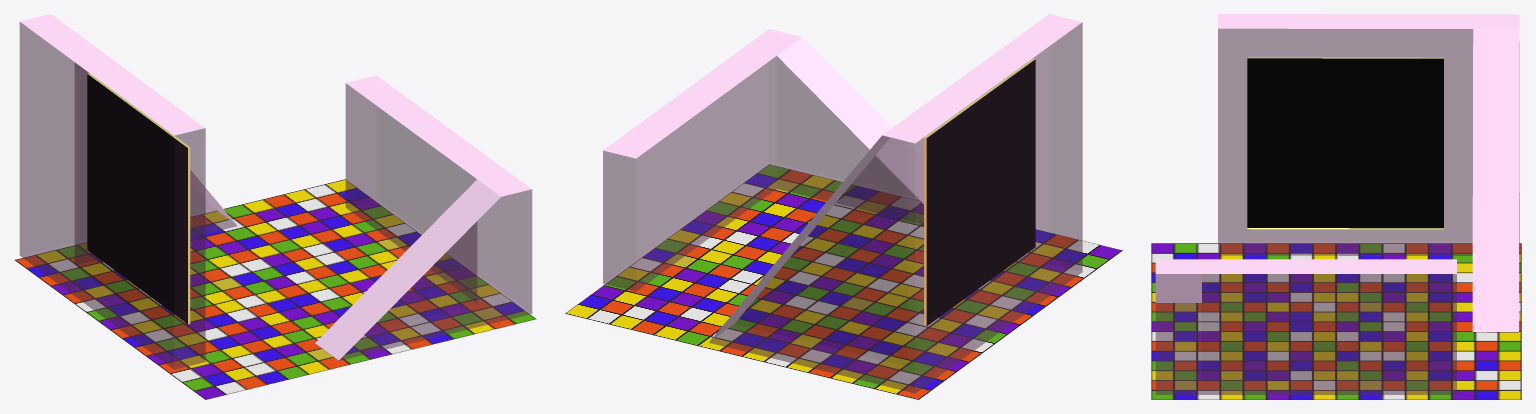
Rendered from stage.glb.
3 views of the same model, side by side, from view 1: azimuth 30°, elevation 25°; view 2: azimuth 150°, elevation 25°; view 3: azimuth 270°, elevation 25° (orthographic). The views are drawn at different scales.
Visible parts, largest first — view 1: Plane, block02, block01; view 2: block02, Plane, block01; view 3: block02, Plane, block01.
Boxes of the visible parts, x1,y1,x2,y2 form: Plane: (14, 179, 536, 399); block02: (19, 14, 236, 369); block01: (315, 75, 532, 360); block02: (709, 14, 1082, 393); Plane: (565, 164, 1122, 399); block01: (603, 29, 923, 291); block02: (1218, 14, 1519, 332); Plane: (1151, 243, 1521, 399); block01: (1155, 259, 1456, 394).
Size of what is drawn, in the model's own units: 16 by 11 by 16.
5 materials, 1 textured.
